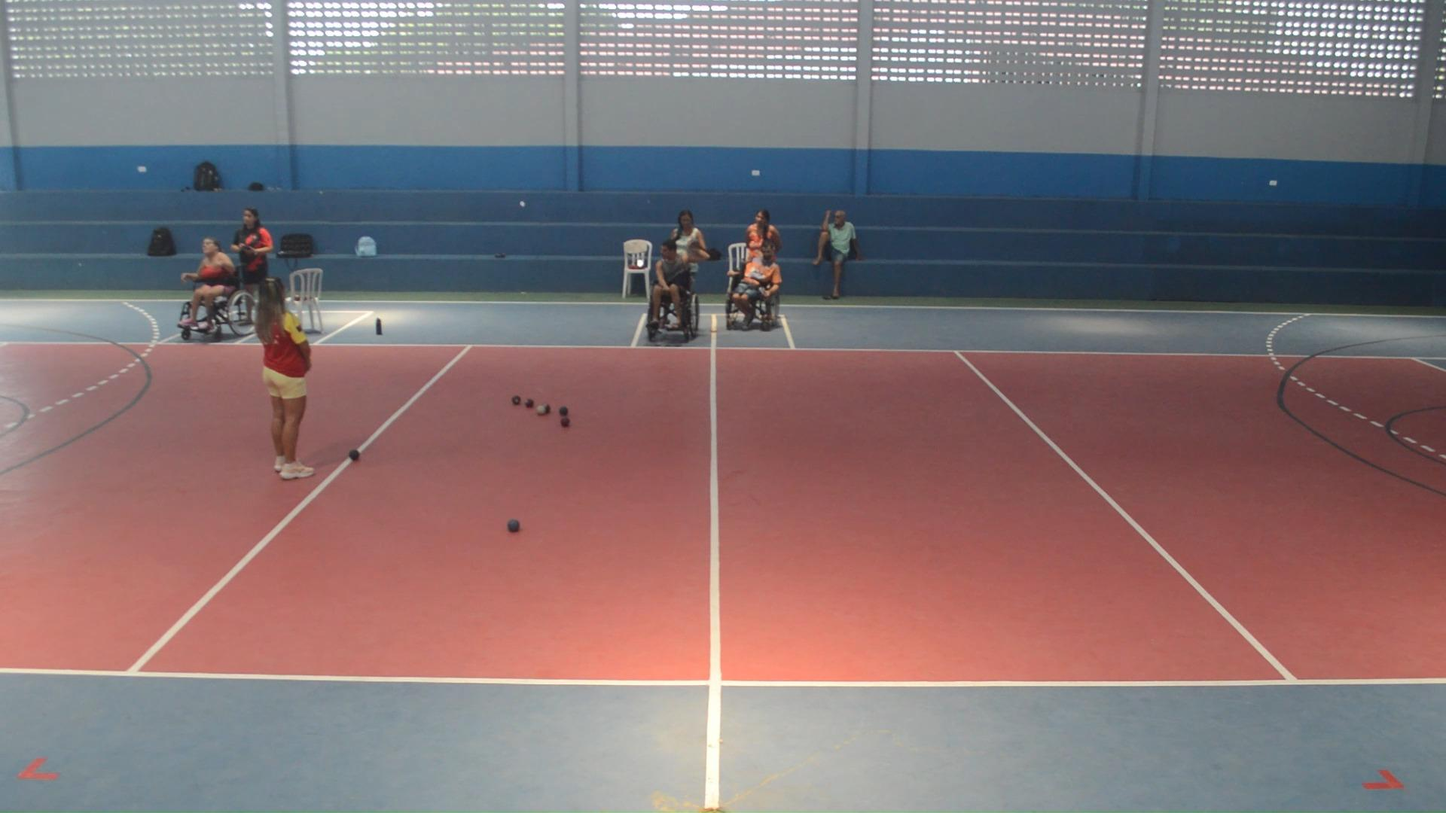blue_ball: (508, 519, 520, 533), (349, 450, 361, 461), (559, 406, 568, 416)
red_ball: (560, 418, 570, 427), (542, 403, 551, 412), (512, 396, 521, 404), (525, 399, 533, 407)
white_ball: (537, 405, 545, 415)
